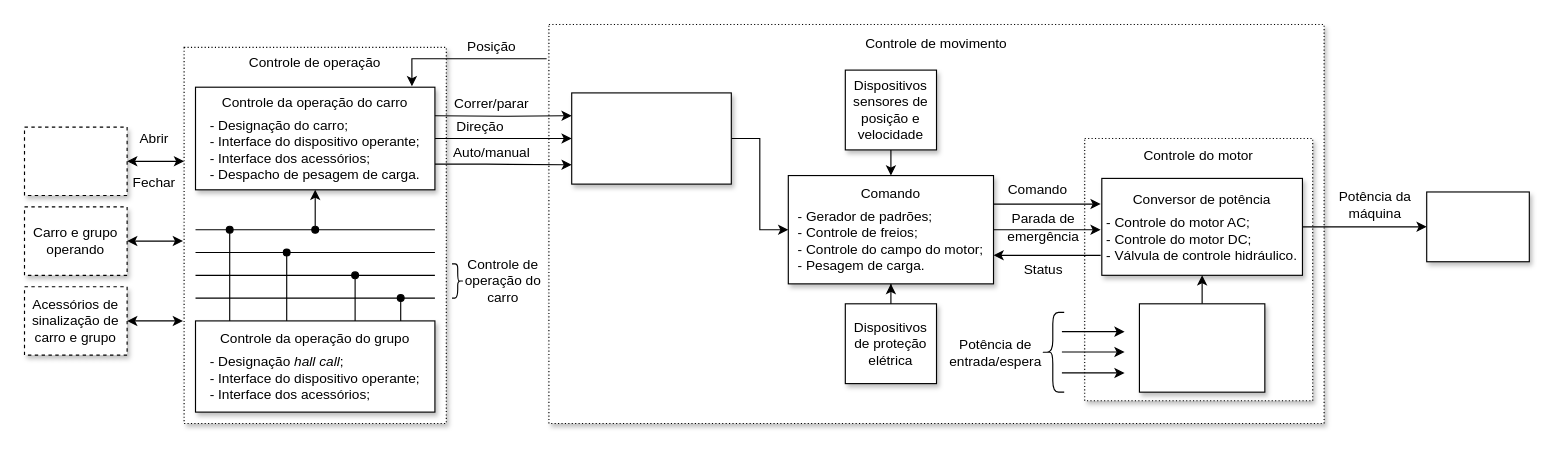
This 1556x451 diagram has some shape labels left out. Each missing label, with the centre of its shape:
"Controle de comando - Controle de parada; - Direção; - Automático/manual." belongs at (x=652, y=139).
"Membro móvel - Motor; - Hidro pistão." belongs at (x=1478, y=228).
"Operador de porta" belongs at (x=76, y=162).
"Partida - Across-the-line; - Resistência; - Estrela/triângulo." belongs at (x=1203, y=349).
